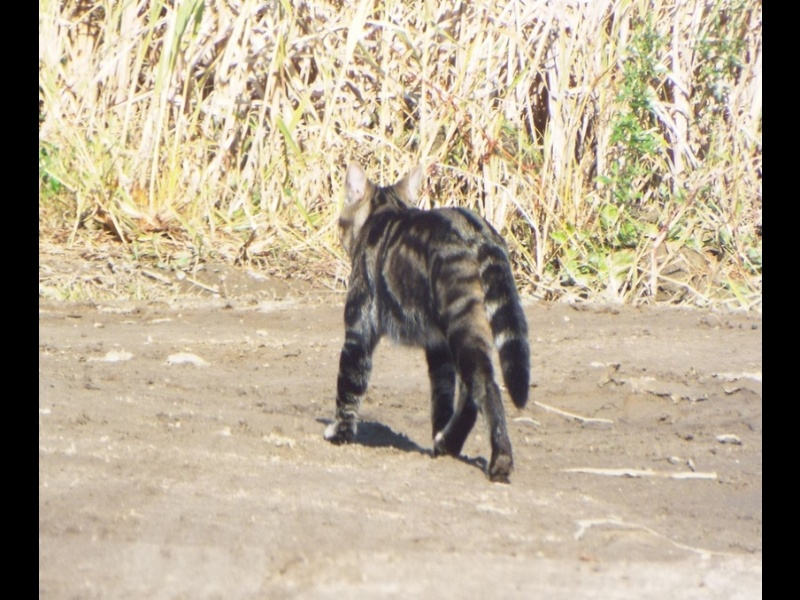cat: (314, 158, 539, 487)
